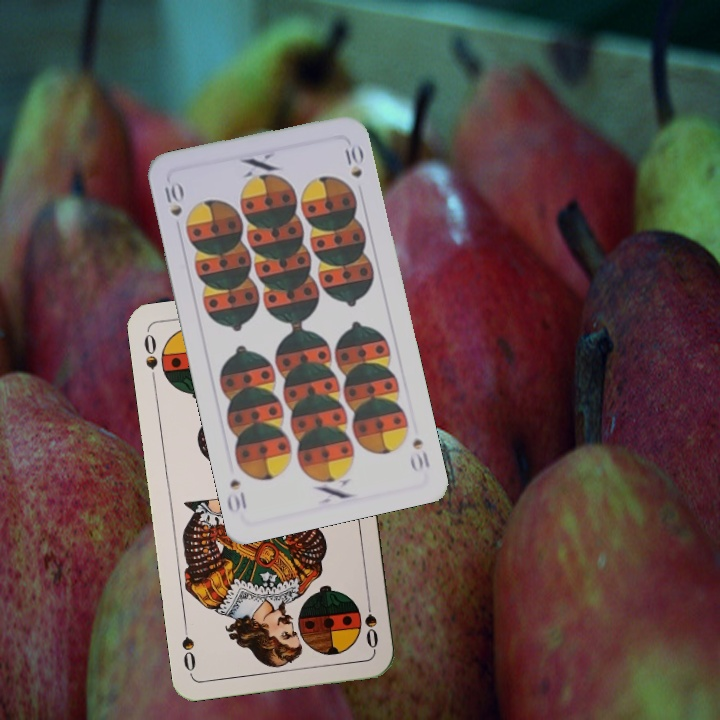S10: (160, 178, 186, 219), (406, 434, 432, 474)
SO: (360, 593, 381, 652), (140, 329, 161, 387)
